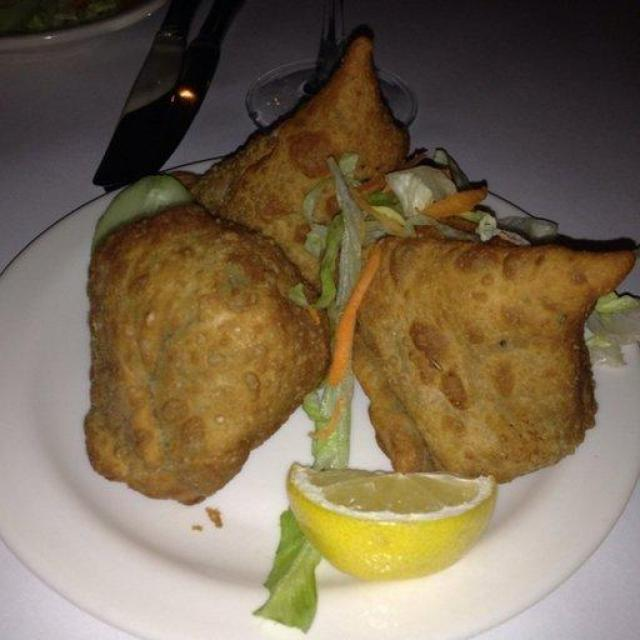food_waste: (323, 201, 640, 481), (180, 21, 425, 333), (94, 194, 314, 490), (273, 428, 545, 590)
